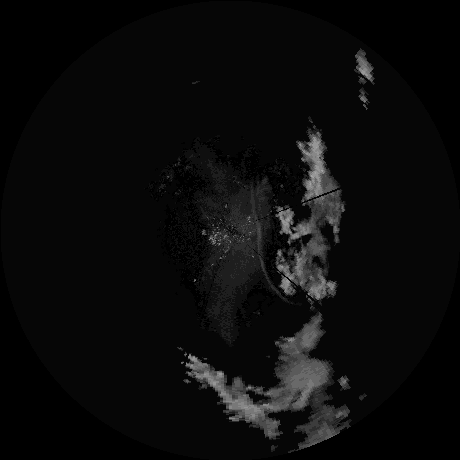frontgust: (248, 189, 284, 303)
